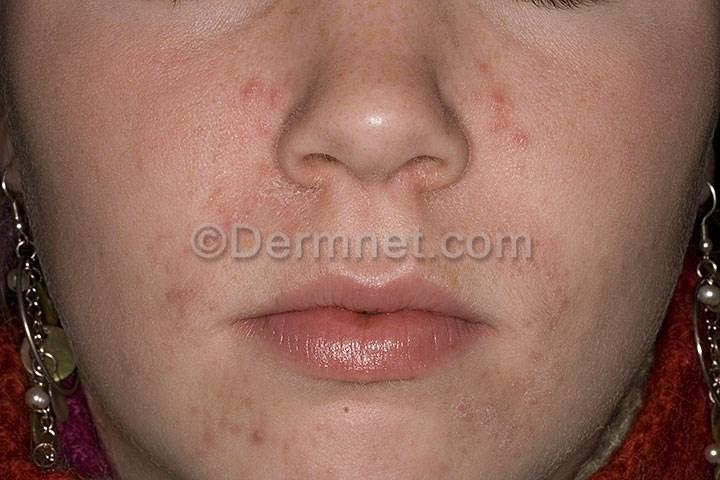Acne: (486, 72, 533, 157), (240, 72, 293, 125)
